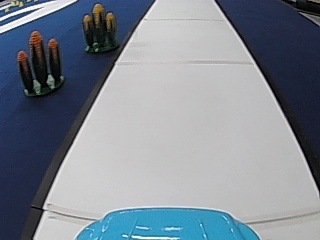corn: (17, 31, 65, 96), (80, 2, 119, 53)
